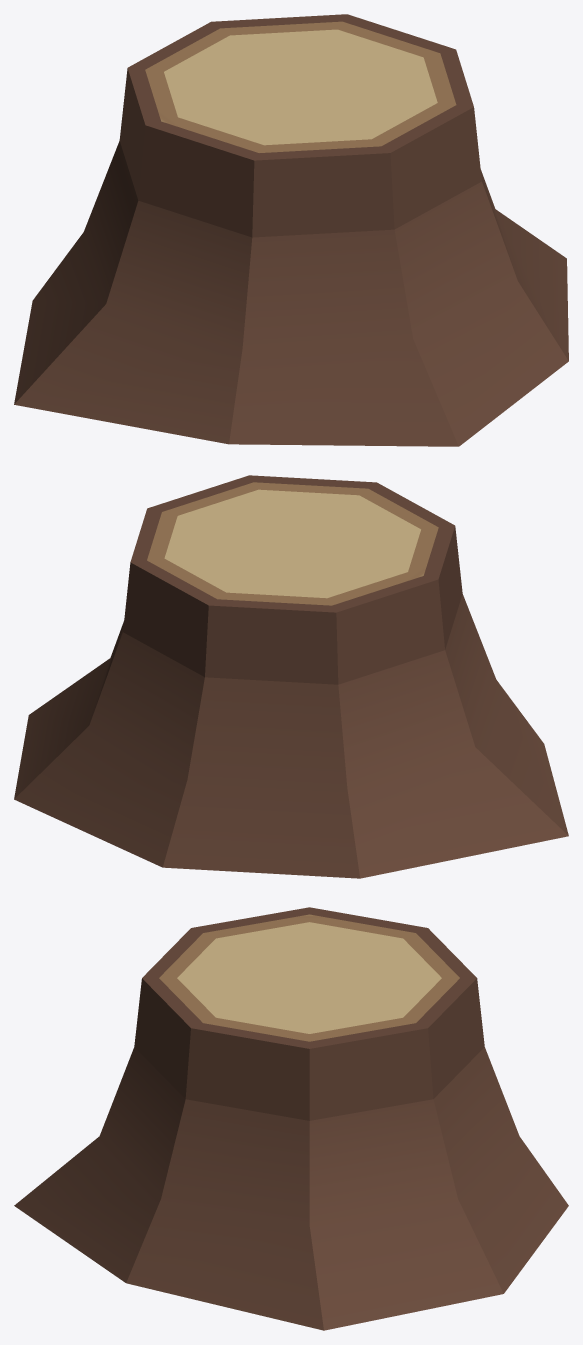
File: atoll_treeStump.fbx
3 views of the same model, one above another, from view 1: azimuth 30°, elevation 25°; view 2: azimuth 150°, elevation 25°; view 3: azimuth 270°, elevation 25° (orthographic). The views are drawn at different scales.
Visible parts, largest first — view 1: pasted__pCylinder1; view 2: pasted__pCylinder1; view 3: pasted__pCylinder1.
Boxes of the visible parts, x1=… form: pasted__pCylinder1: x1=14, y1=14, x2=568, y2=446; pasted__pCylinder1: x1=14, y1=475, x2=568, y2=878; pasted__pCylinder1: x1=14, y1=907, x2=568, y2=1330.
Size of the model in its own units: 17.65 by 7.28 by 16.08.
